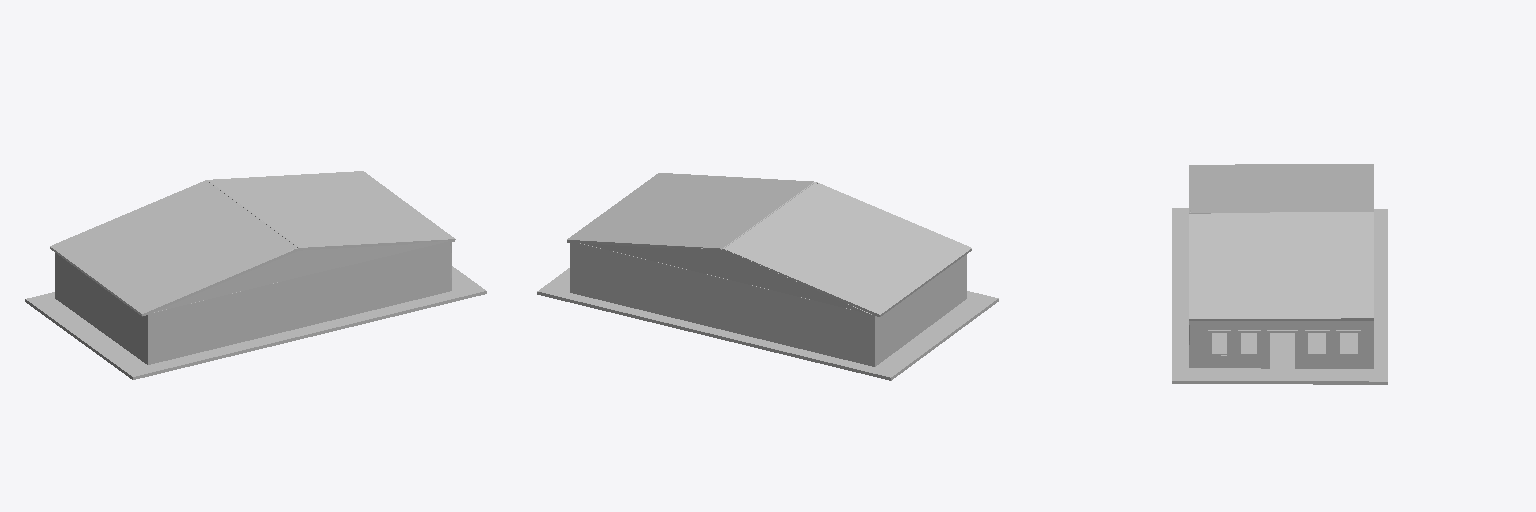
File: paredes.obj
3 views of the same model, side by side, from view 1: azimuth 30°, elevation 25°; view 2: azimuth 150°, elevation 25°; view 3: azimuth 270°, elevation 25° (orthographic).
Parts seen in each view (by area): view 1: Cubo.003_Cubo.003, Cubo.001_Cubo, Cubo.003_Cubo.004, Cubo.000_Cubo.001, Cubo.003_Cubo.001, Cubo.004_Cubo; view 2: Cubo.003_Cubo.003, Cubo.000_Cubo.004, Cubo.003_Cubo.004, Cubo.000_Cubo.001, Cubo.003_Cubo.001, Cubo.020_Cubo.001; view 3: Cubo.003_Cubo.004, Cubo.000_Cubo.001, Cubo.003_Cubo.003, Cubo.002_Cubo.001.
Part boxes in pixels (x1,y1,x2,y2): Cubo.003_Cubo.003: (50,180,298,316); Cubo.001_Cubo: (150,242,449,364); Cubo.003_Cubo.004: (208,171,455,250); Cubo.000_Cubo.001: (25,266,486,379); Cubo.003_Cubo.001: (55,253,149,364); Cubo.004_Cubo: (153,241,447,312); Cubo.003_Cubo.003: (723,182,971,316); Cubo.000_Cubo.004: (573,243,871,365); Cubo.003_Cubo.004: (567,173,813,249); Cubo.000_Cubo.001: (537,268,998,380); Cubo.003_Cubo.001: (872,255,966,366); Cubo.020_Cubo.001: (581,243,869,313); Cubo.003_Cubo.004: (1189,212,1373,320); Cubo.000_Cubo.001: (1172,208,1387,384); Cubo.003_Cubo.003: (1189,164,1373,213); Cubo.002_Cubo.001: (1189,321,1373,368).
Bounding box in the file's own units: 24.84 × 5.69 × 13.09.